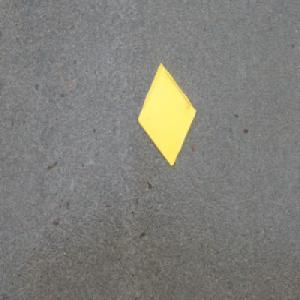PlasticPart: (137, 61, 198, 168)
